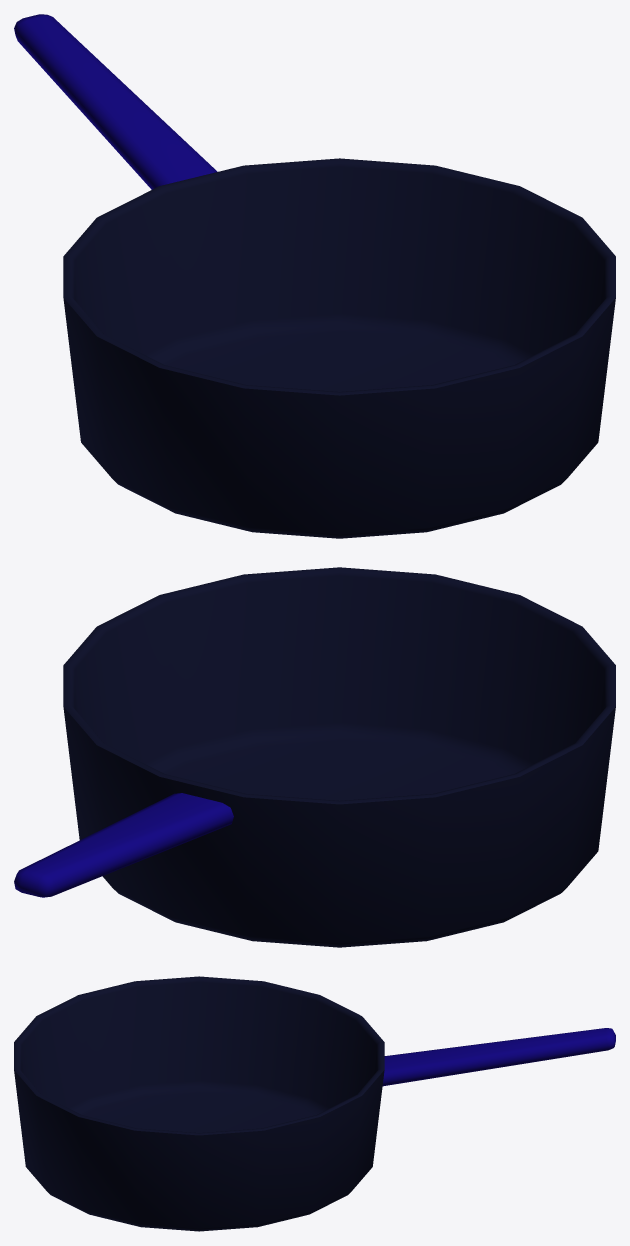
The model's file is SM_Pan_02.fbx.
3 views of the same model, one above another, from view 1: azimuth 30°, elevation 25°; view 2: azimuth 150°, elevation 25°; view 3: azimuth 270°, elevation 25° (orthographic). The views are drawn at different scales.
Visible parts, largest first — view 1: SM_Pan_02; view 2: SM_Pan_02; view 3: SM_Pan_02.
Boxes of the visible parts, x1,y1,x2,y2 form: SM_Pan_02: [14, 14, 615, 538]; SM_Pan_02: [14, 567, 615, 947]; SM_Pan_02: [14, 976, 615, 1231].
Bounding box in the file's own units: 23.34 × 8.85 × 37.33.
